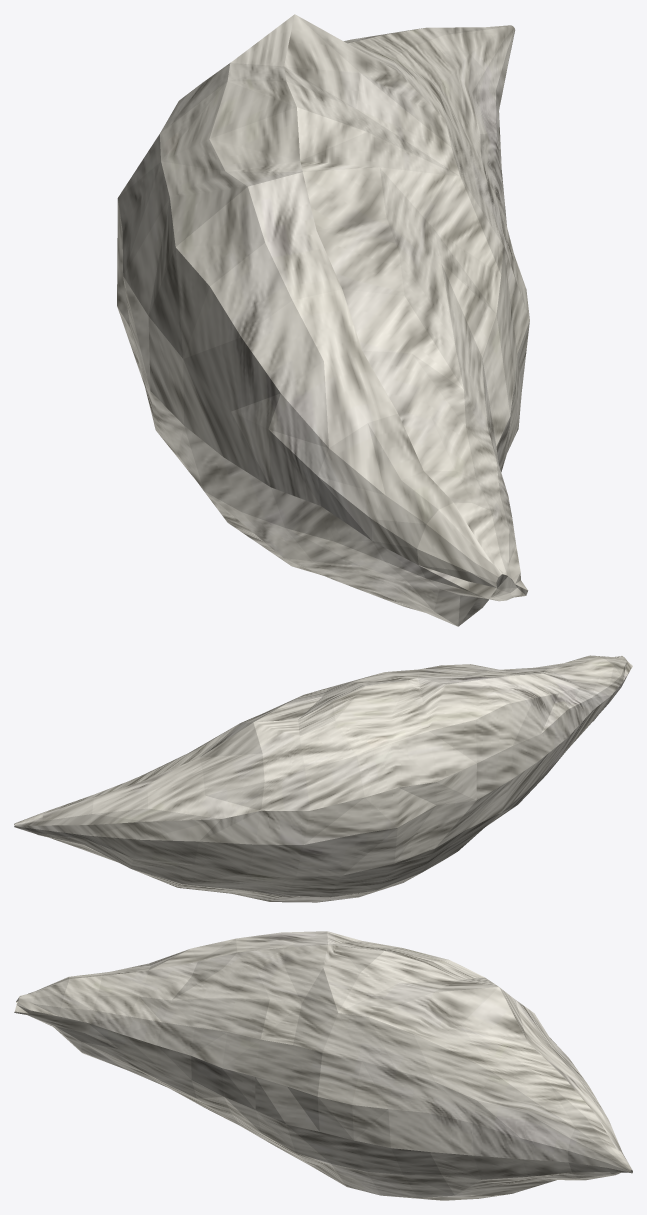
File: mhw_elvs_fluffy_tail_as_clothes_1.glb
3 renders of one model, top to bottom at view 1: azimuth 30°, elevation 25°; view 2: azimuth 150°, elevation 25°; view 3: azimuth 270°, elevation 25°, orthographic. The views are drawn at different scales.
Visible parts, largest first — view 1: mhw_elvs_fluffy_tail_as_clothes_1; view 2: mhw_elvs_fluffy_tail_as_clothes_1; view 3: mhw_elvs_fluffy_tail_as_clothes_1.
Boxes of the visible parts, x1,y1,x2,y2 form: mhw_elvs_fluffy_tail_as_clothes_1: (117, 14, 529, 626); mhw_elvs_fluffy_tail_as_clothes_1: (14, 655, 632, 902); mhw_elvs_fluffy_tail_as_clothes_1: (14, 931, 632, 1200).
Size of the model in its own units: 0.3987 by 0.2444 by 0.6228.
Materials: 1 (1 with a texture image).
